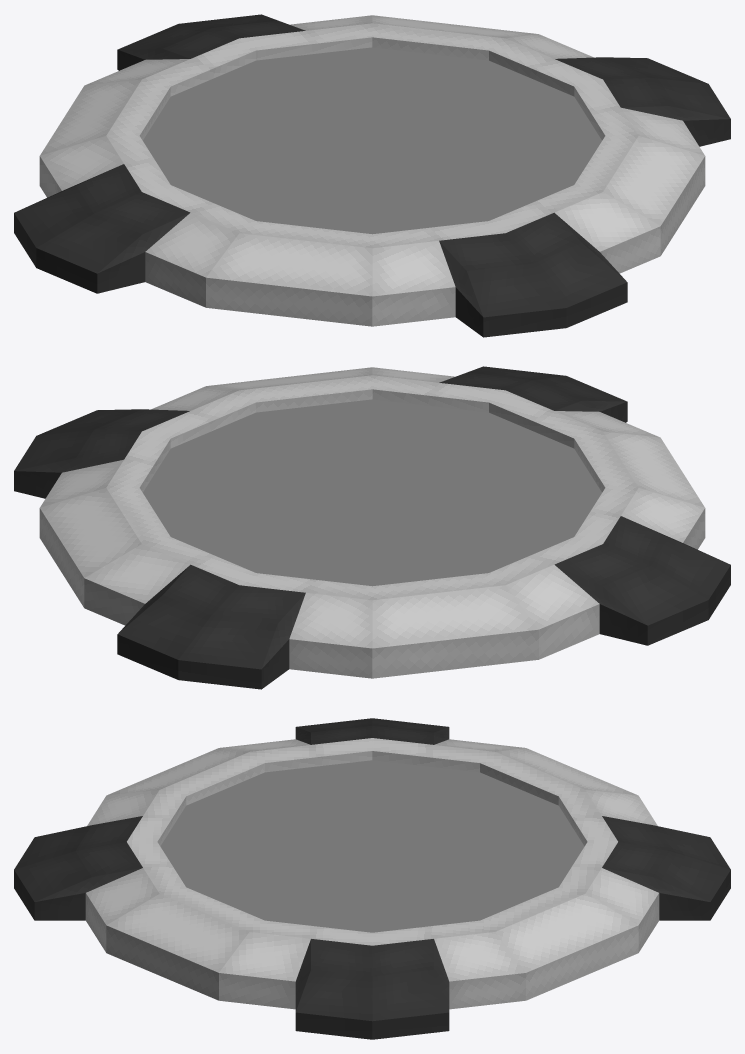
Rendered from floorButtonBase.glb.
The picture shows the model from 3 angles, top to bottom: view 1: azimuth 30°, elevation 25°; view 2: azimuth 150°, elevation 25°; view 3: azimuth 270°, elevation 25°; orthographic projection. The views are drawn at different scales.
Visible parts, largest first — view 1: Cylinder; view 2: Cylinder; view 3: Cylinder.
Part boxes in pixels (x1,y1,x2,y2): Cylinder: (14,14,730,337); Cylinder: (14,366,730,689); Cylinder: (14,718,730,1039).
Size of the model in its own units: 3.5 by 0.25 by 3.5.
1 material, 1 textured.
